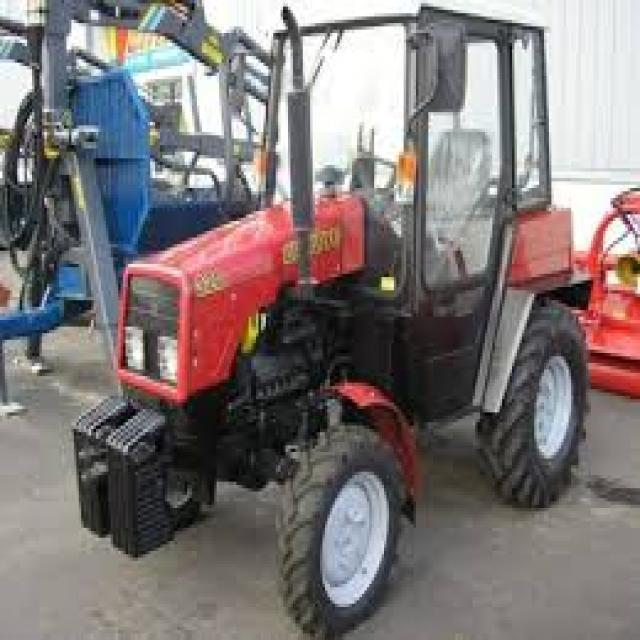Tratores - v5 YOLO V8L 2024-11-13: (86, 27, 597, 640)
